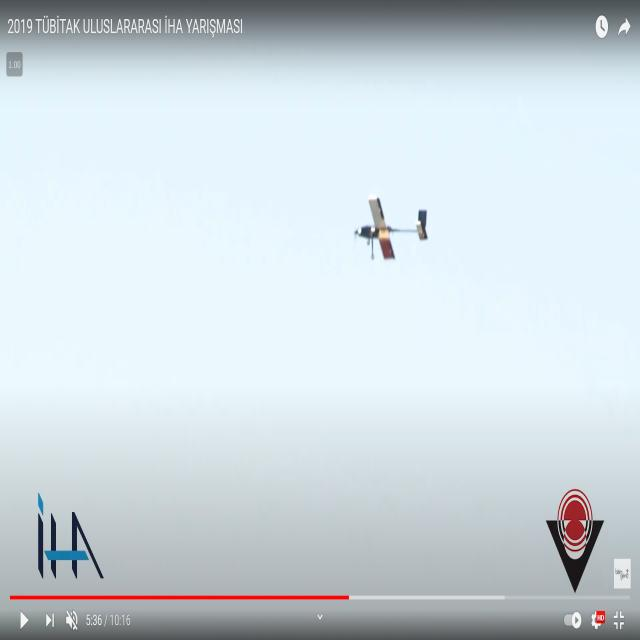iha: (378, 226, 391, 231)
